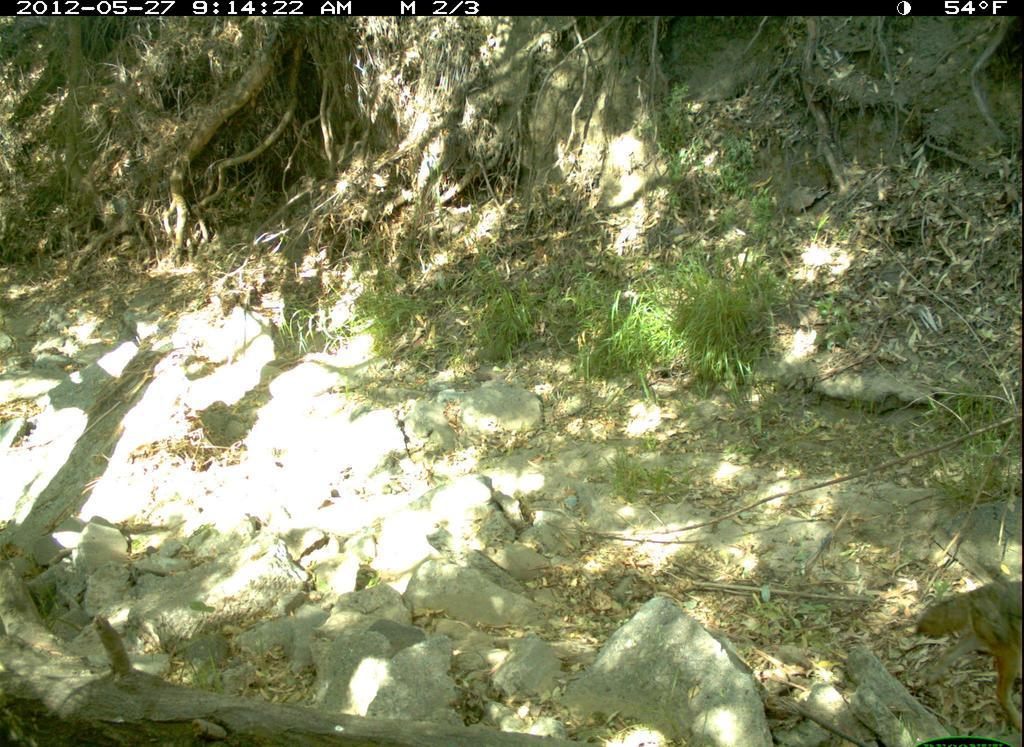coyote: (917, 578, 1023, 726)
